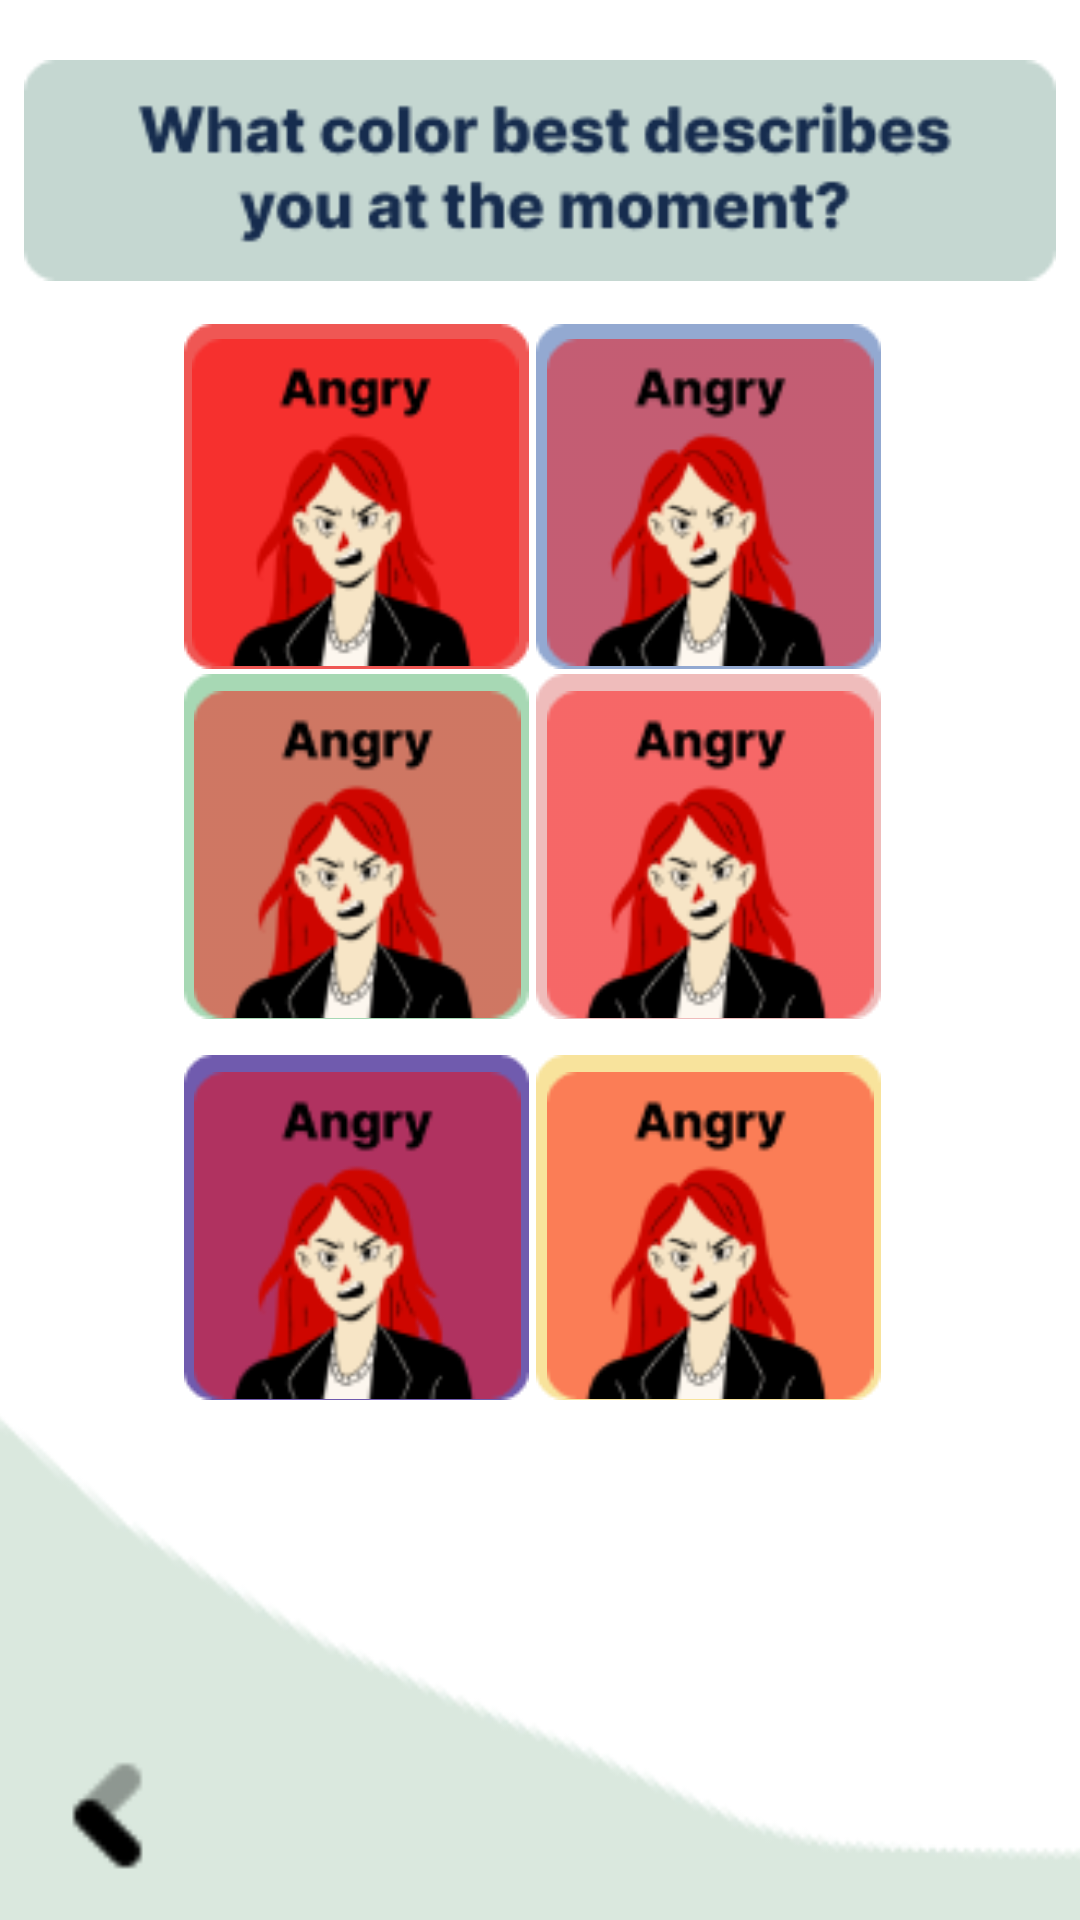

Named icons in this screenshot (1080x1920) and their bounding boxes, detection(x1, y1, x2, y2):
back: detection(72, 1763, 143, 1869)
